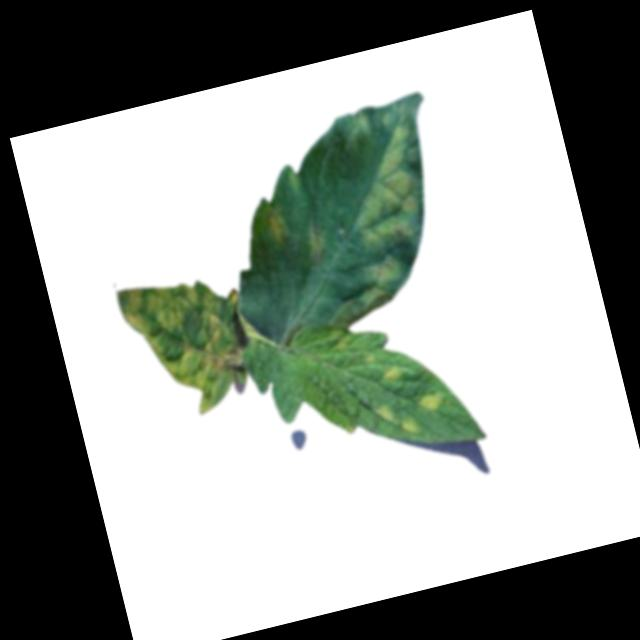Leaf_Mold: (317, 120, 445, 316), (112, 264, 263, 430), (373, 395, 421, 444), (262, 203, 290, 248), (417, 387, 443, 414), (376, 361, 402, 385)
